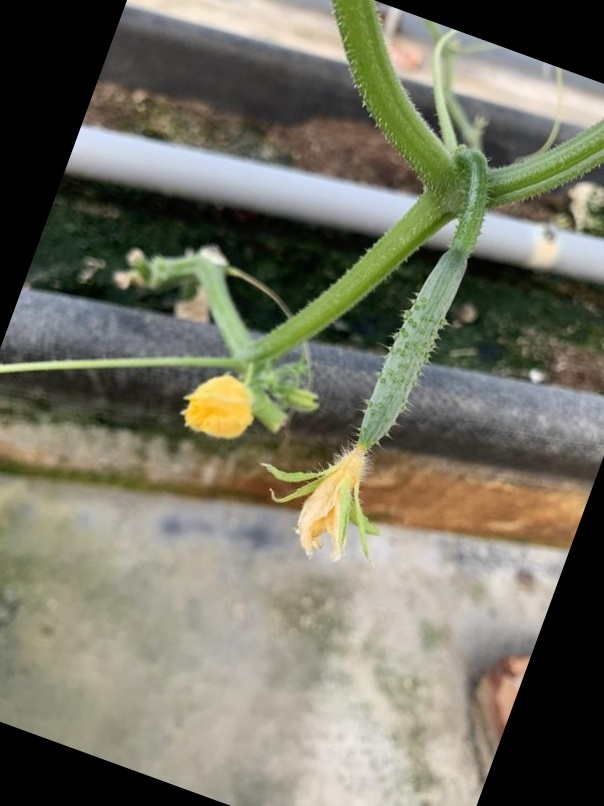bear: (260, 215, 487, 572)
